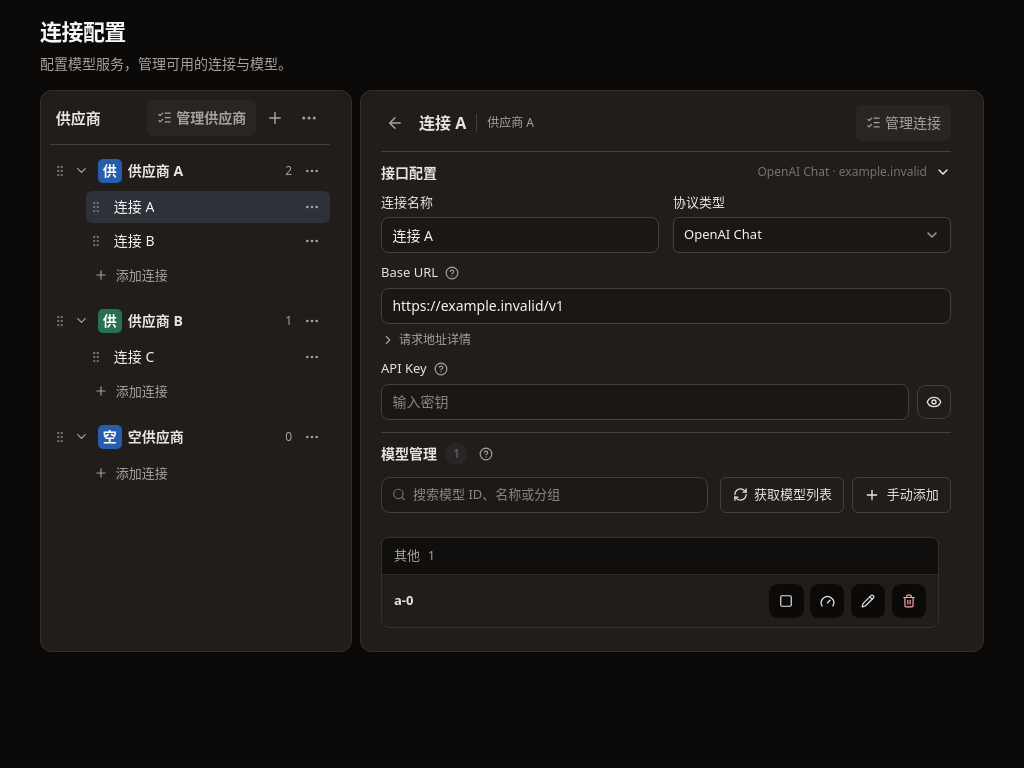
ConnectionSettings batch management › discards a model draft before management and opens only the batch delete dialog afterwards
Click the button named "编辑模型 a-0" at point(868, 601), box [851, 584, 885, 618]
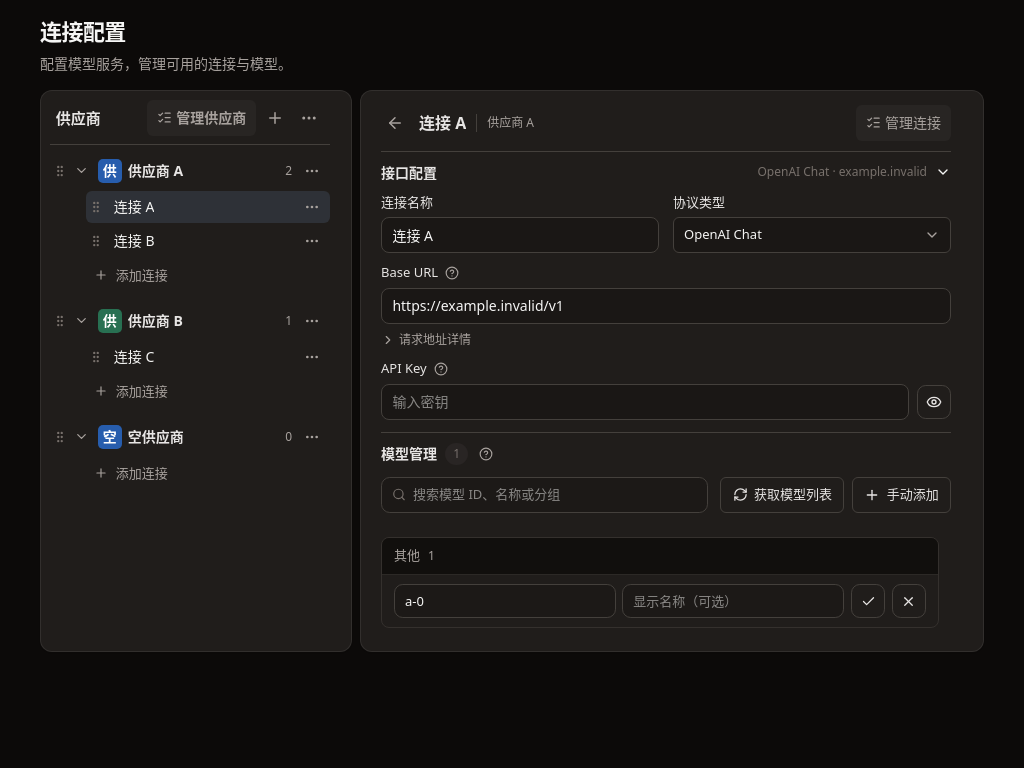
Click the button "管理连接" at point(904, 123), box [856, 105, 951, 141]
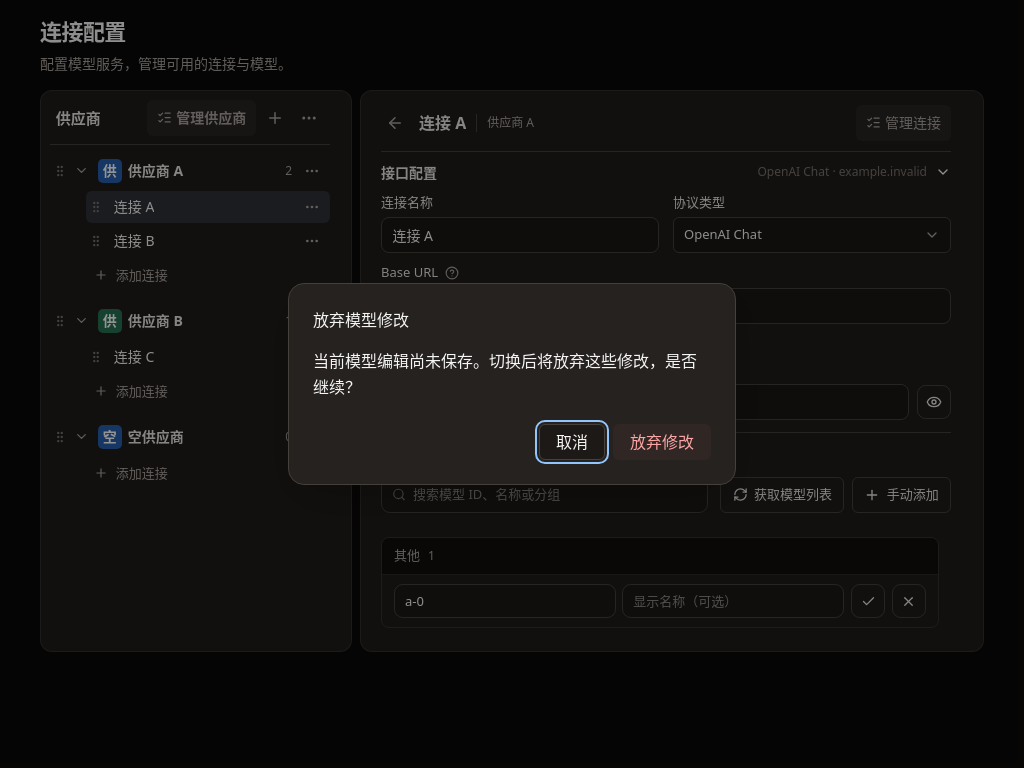
Check: the dialog shows "放弃模型修改", box [313, 309, 409, 331]
Check: the number of dialogs is 1, box [288, 283, 736, 485]
Check: the button "放弃修改" is shown
Click the button "放弃修改" at point(662, 442), box [613, 424, 711, 460]
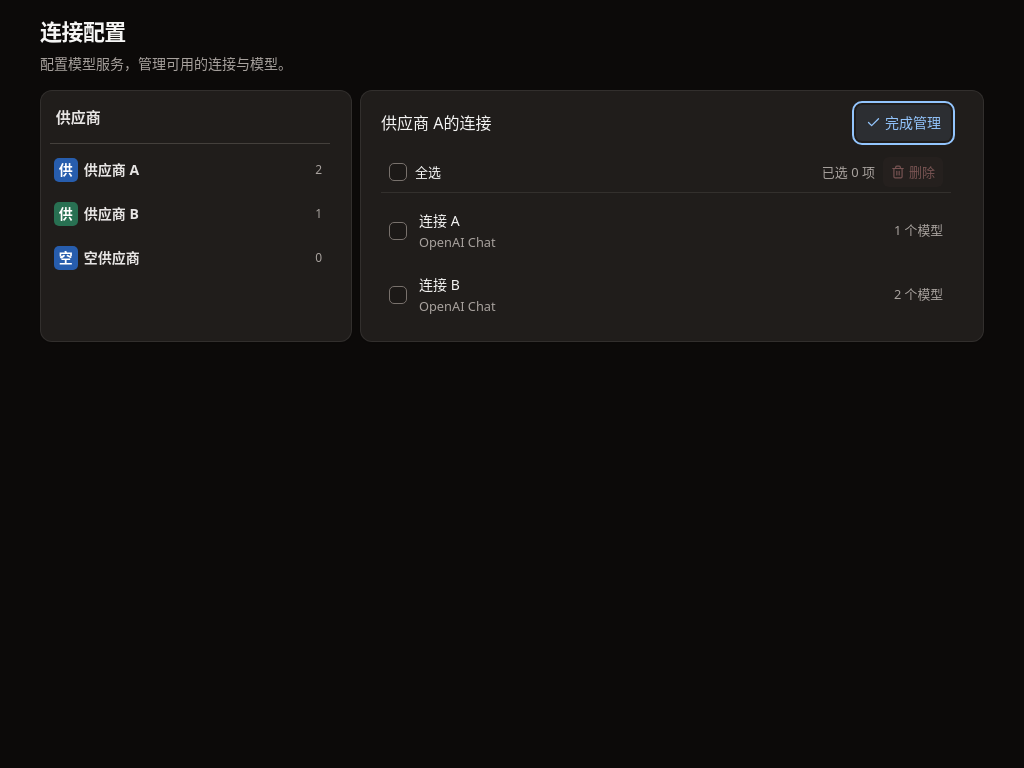
Click the checkbox labelled "连接 A OpenAI Chat 1 个模型" at point(398, 231), box [389, 222, 407, 240]
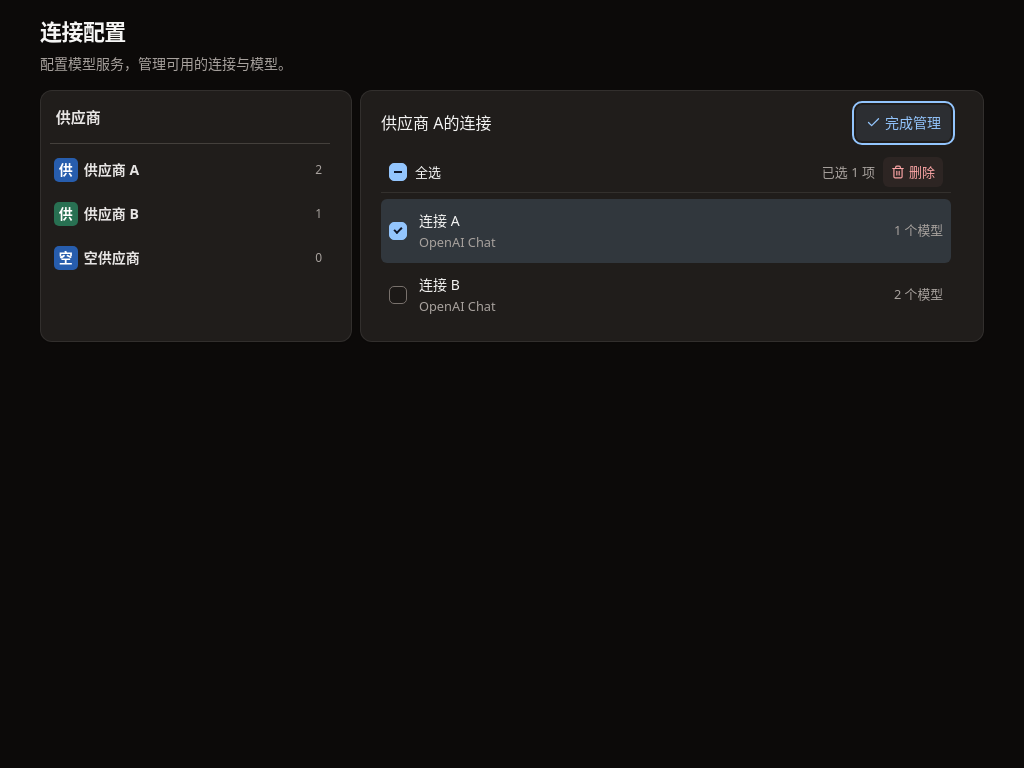
Check: the button "删除" is shown
Click the button "删除" at point(913, 172), box [883, 157, 943, 187]
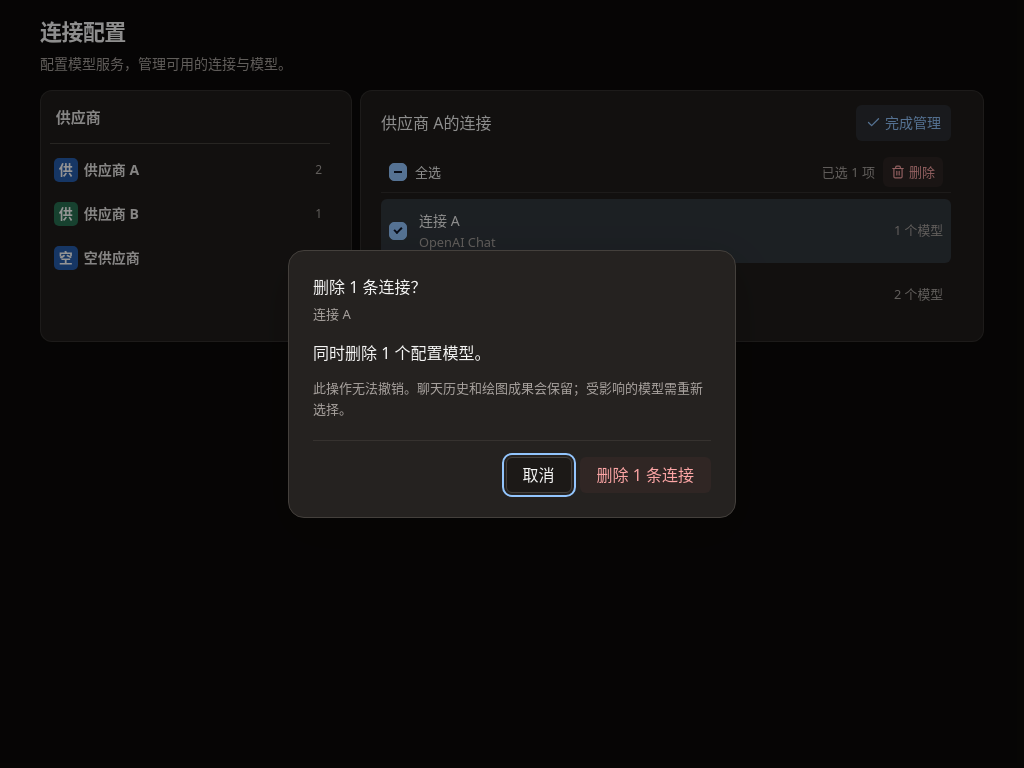
Check: the heading "放弃模型修改" does not show "放弃模型修改"
Check: the heading "删除 1 条连接？" is shown, box [313, 276, 426, 298]
Check: the number of dialogs is 1, box [288, 250, 736, 518]
